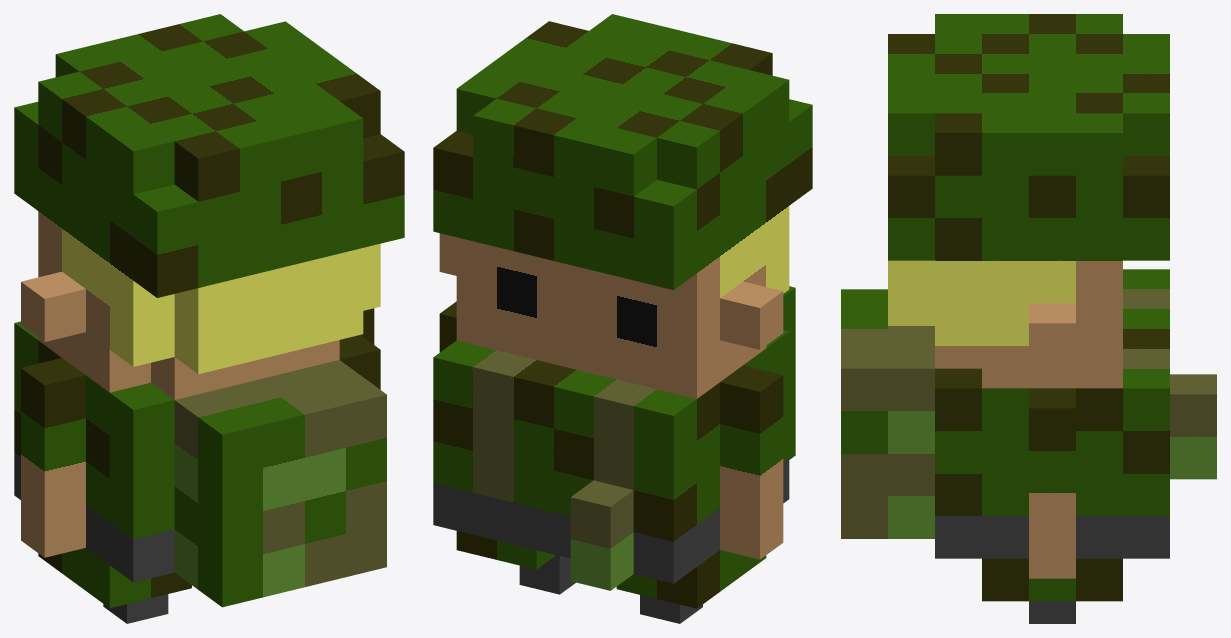
File: chr_army2b.dae
3 views of the same model, side by side, from view 1: azimuth 30°, elevation 25°; view 2: azimuth 150°, elevation 25°; view 3: azimuth 270°, elevation 25° (orthographic). The views are drawn at different scales.
Parts seen in each view (by area): view 1: chr_army2b; view 2: chr_army2b; view 3: chr_army2b.
Boxes of the visible parts, <box> form: chr_army2b: <box>14,14,404,623</box>; chr_army2b: <box>433,14,812,623</box>; chr_army2b: <box>841,14,1216,623</box>.
Bounding box in the file's own units: 0.8 × 0.8 × 1.2.
Materials: 1 (1 with a texture image).
